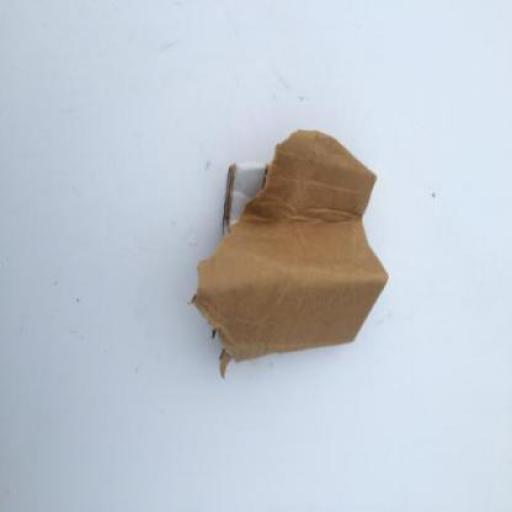cardboard: (195, 129, 390, 377)
